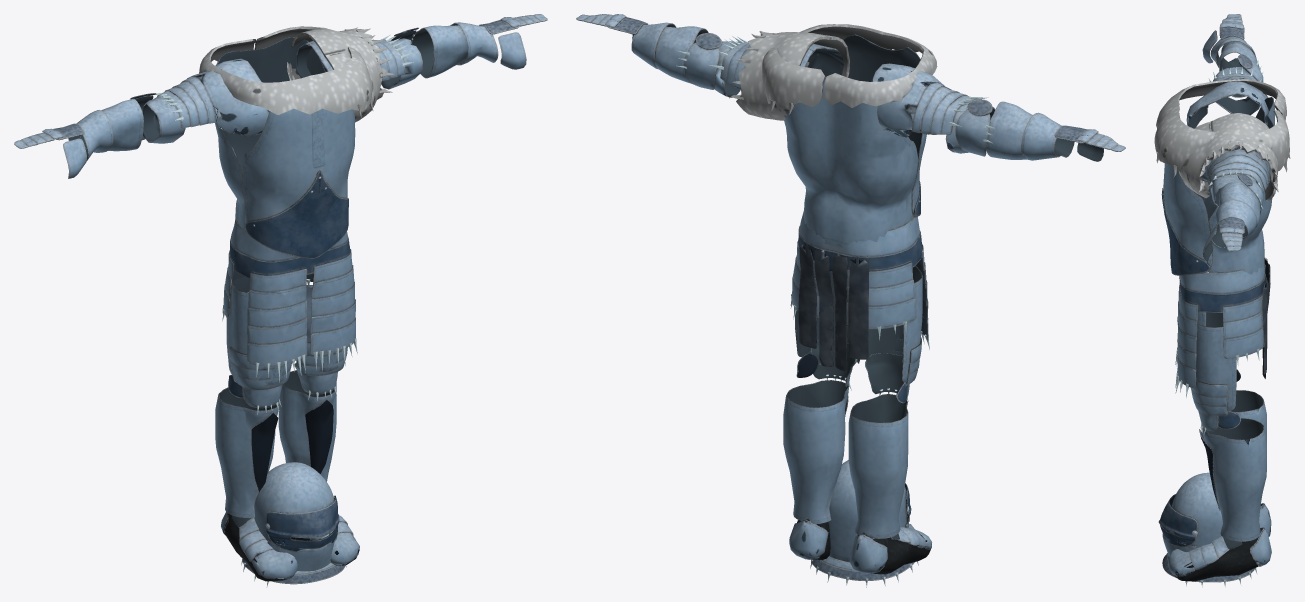
Rendered from glacial.glb.
3 views of the same model, side by side, from view 1: azimuth 30°, elevation 25°; view 2: azimuth 150°, elevation 25°; view 3: azimuth 270°, elevation 25° (orthographic). The views are drawn at different scales.
Parts seen in each view (by area): view 1: chest, feet, gloves, helm, legs; view 2: chest, feet, gloves, legs, helm; view 3: chest, feet, gloves, legs, helm.
Boxes of the visible parts, left/top/right/bottom form: chest: left=112, top=26, right=422, bottom=382; feet: left=215, top=370, right=359, bottom=581; gloves: left=14, top=14, right=547, bottom=178; helm: left=241, top=462, right=346, bottom=587; legs: left=226, top=283, right=347, bottom=414; chest: left=675, top=24, right=995, bottom=371; feet: left=783, top=380, right=931, bottom=574; gloves: left=576, top=14, right=1125, bottom=161; legs: left=795, top=266, right=922, bottom=403; helm: left=810, top=460, right=918, bottom=587; chest: left=1154, top=54, right=1290, bottom=397; feet: left=1168, top=390, right=1271, bottom=581; gloves: left=1202, top=14, right=1260, bottom=262; legs: left=1191, top=311, right=1240, bottom=435; helm: left=1158, top=472, right=1257, bottom=587.
Bounding box in the file's own units: 1.78 × 1.65 × 0.4324.
Materials: 5 (5 with a texture image).
